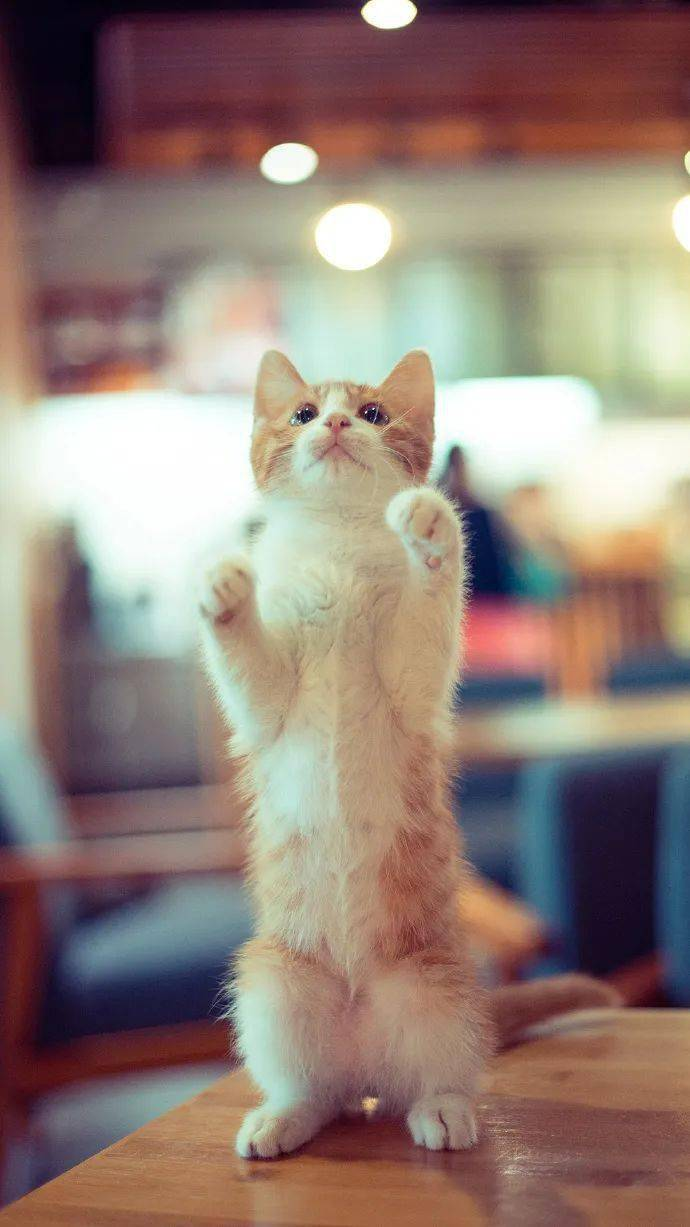cat: (184, 346, 621, 1155)
